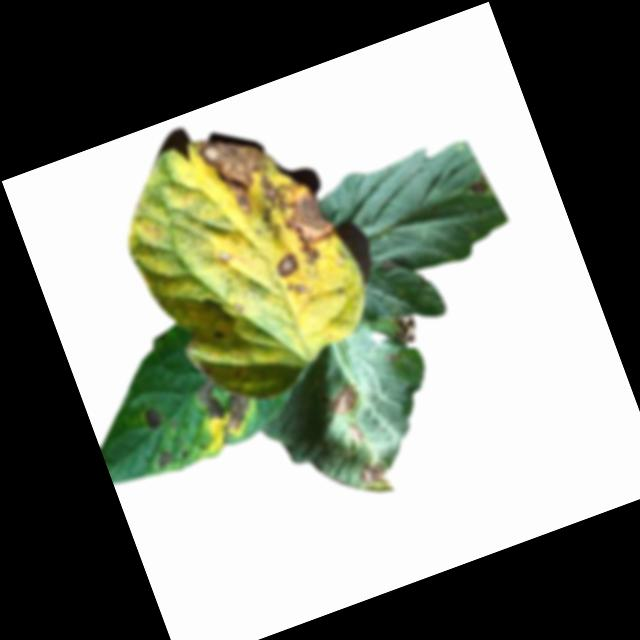Early_blight: (247, 157, 344, 276), (195, 122, 283, 223), (192, 368, 260, 442), (382, 311, 422, 350), (326, 382, 363, 419), (358, 461, 390, 491), (137, 404, 166, 437), (272, 253, 301, 279), (150, 447, 174, 469), (467, 177, 490, 199)
